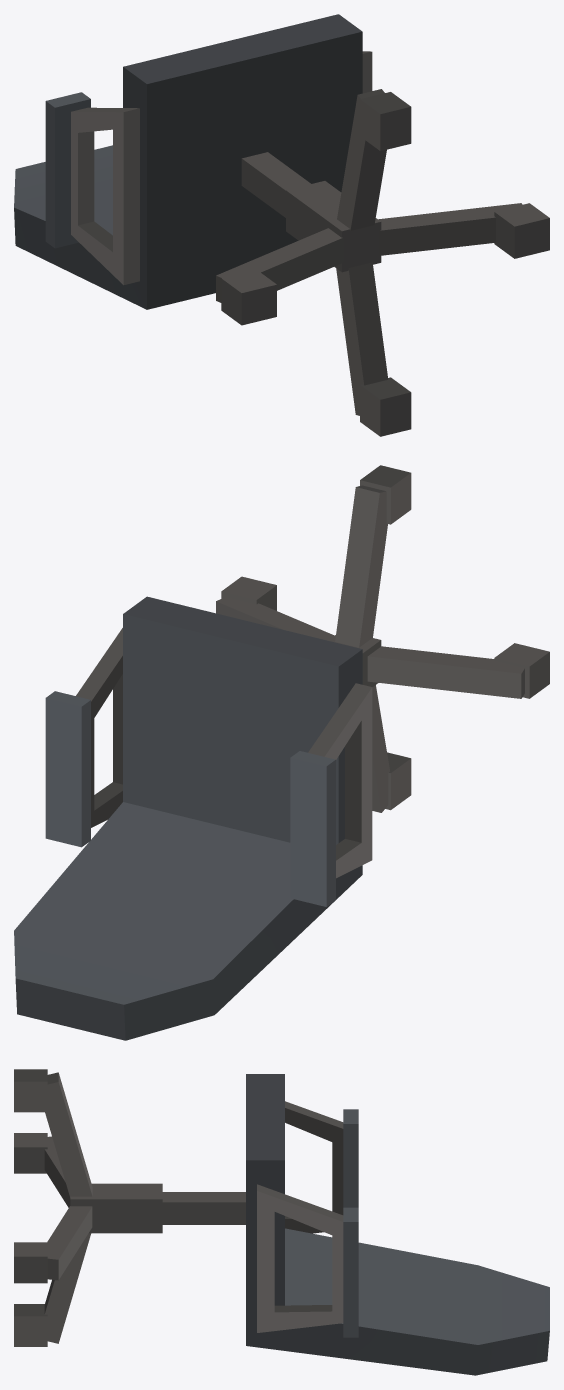
Rendered from Chair.glb.
3 renders of one model, top to bottom at view 1: azimuth 30°, elevation 25°; view 2: azimuth 150°, elevation 25°; view 3: azimuth 270°, elevation 25°, orthographic. The views are drawn at different scales.
Visible parts, largest first — view 1: SO_Chair01; view 2: SO_Chair01; view 3: SO_Chair01.
Part boxes in pixels (bbox=[...]): SO_Chair01: bbox=[14, 14, 549, 436]; SO_Chair01: bbox=[14, 465, 549, 1040]; SO_Chair01: bbox=[14, 1069, 549, 1375].
Size of the model in its own units: 1.24 by 1.24 by 2.27.
Materials: 1 (1 with a texture image).
